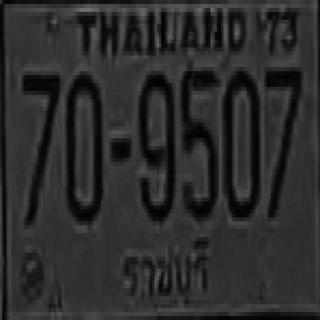N00: (64, 71, 101, 221), (221, 67, 258, 217)
N05: (180, 67, 217, 217)
N07: (264, 65, 301, 215), (22, 71, 58, 221)
N09: (138, 69, 174, 219)
P52: (119, 235, 215, 313)
